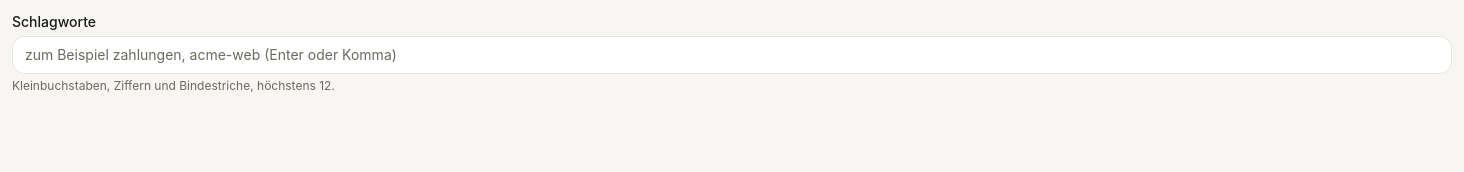
Scenario: TagInput › adds tags with comma, Enter and blur, and removes them with the pill button
Type "pay," into the field labelled "Schlagworte" at (732, 55), box [12,36,1452,74]
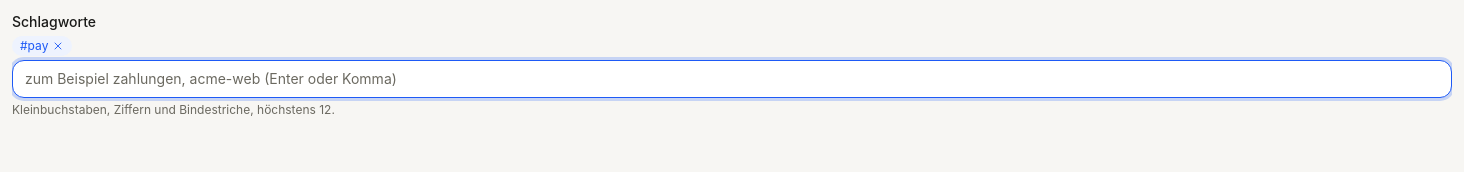
Type "web" into the field labelled "Schlagworte" at (732, 79), box [12,60,1452,98]
Then press Enter
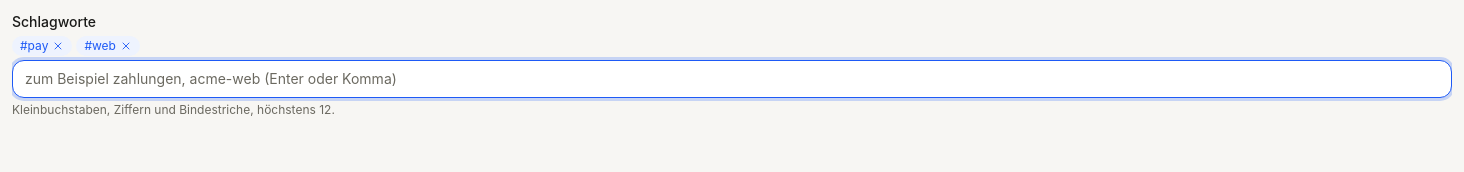
Type "ops" into the field labelled "Schlagworte" at (732, 79), box [12,60,1452,98]
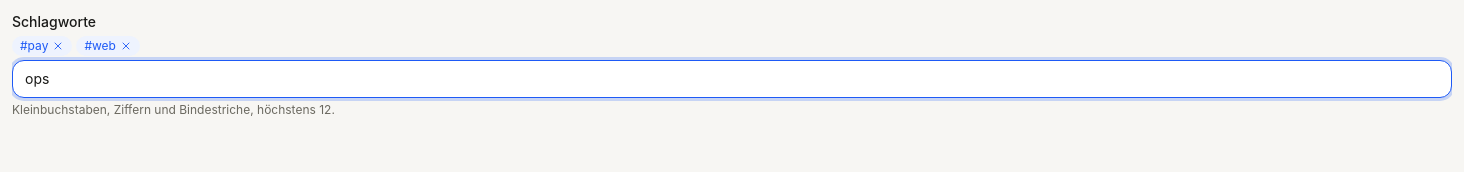
Press Tab
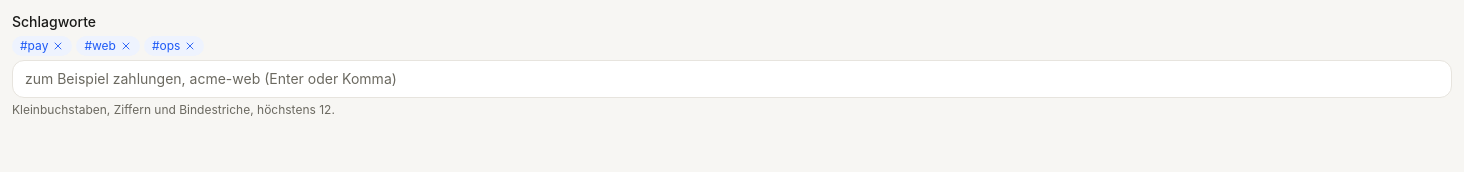
Click the button named "Schlagwort web entfernen" at (126, 46), box [120,40,132,52]
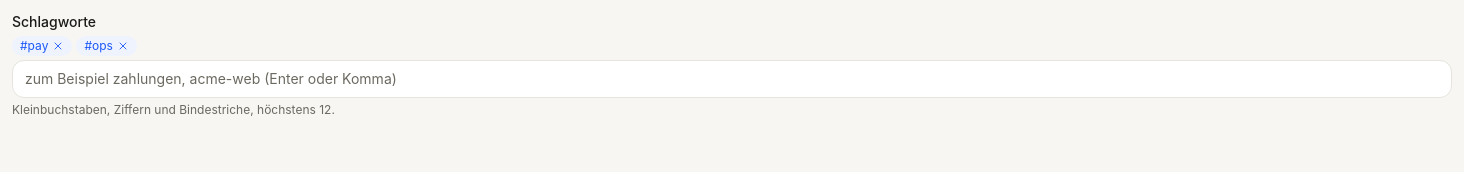
Expected: the list item "#web" is gone
